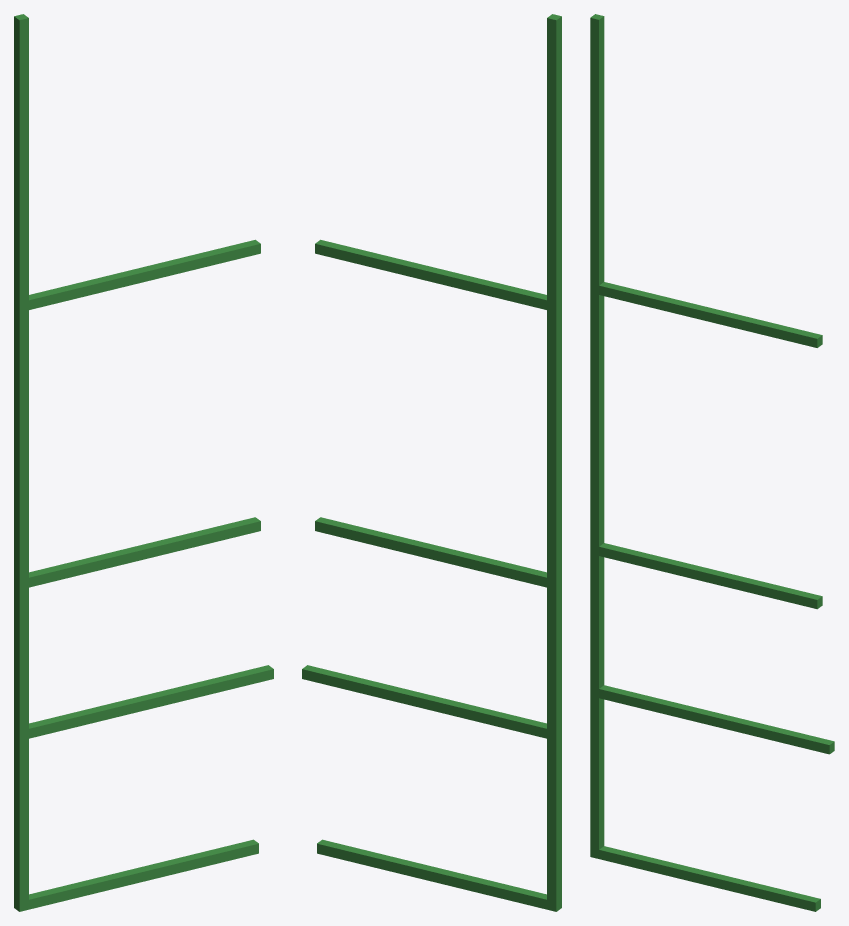
Rendered from wire+2.fbx.
3 views of the same model, side by side, from view 1: azimuth 30°, elevation 25°; view 2: azimuth 150°, elevation 25°; view 3: azimuth 330°, elevation 25° (orthographic). The views are drawn at different scales.
Visible parts, largest first — view 1: Body1; view 2: Body1; view 3: Body1.
Part boxes in pixels (left/top/right/bottom): Body1: left=14, top=14, right=273, bottom=911; Body1: left=302, top=14, right=561, bottom=911; Body1: left=590, top=14, right=834, bottom=911.
Bounding box in the file's own units: 108 × 360 × 4.
